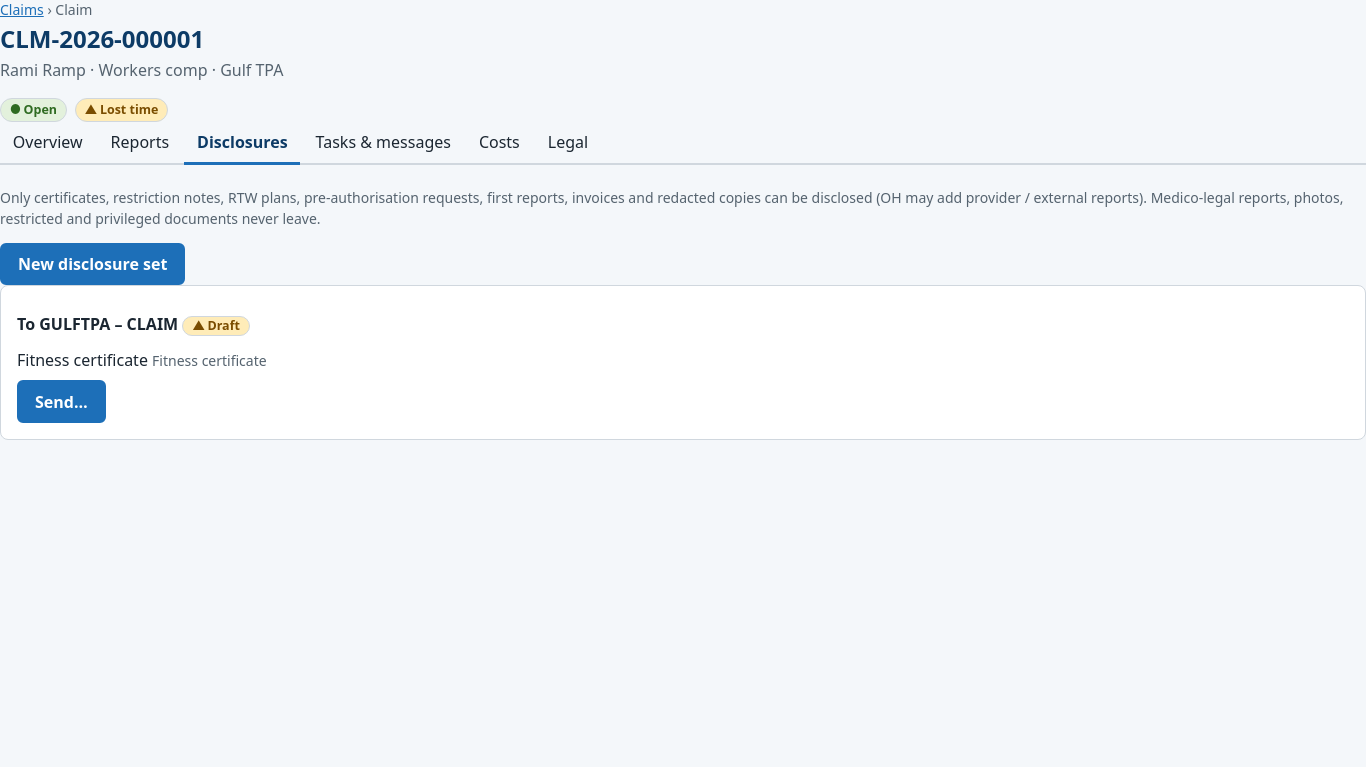
Scenario: ClaimDetailScreen › disclosures: claims coordinator chooser uses the claim documents; no consent → empty state, no free text
This screenshot has width=1366, height=767.
Click the button "New disclosure set": (93, 264) left=0, top=243, right=185, bottom=285
(page scrolled)
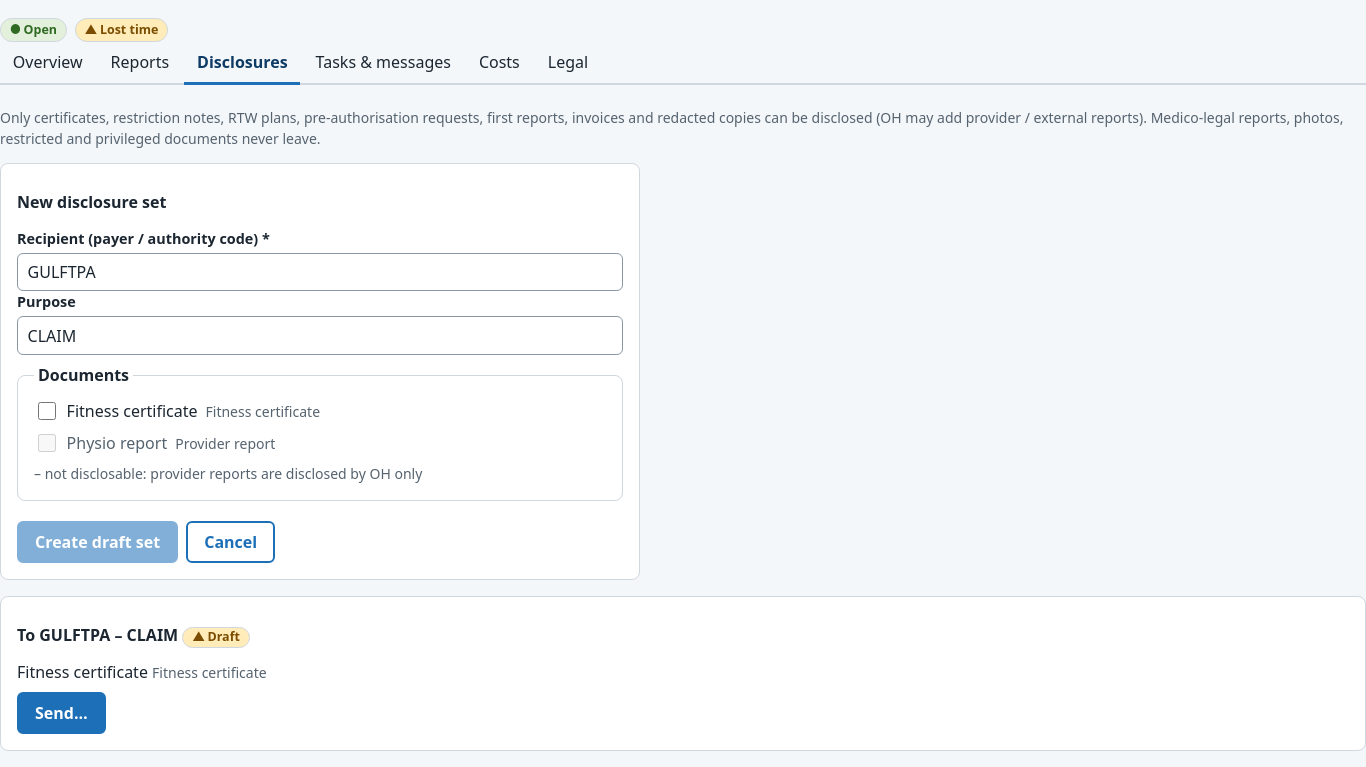
Expected: the checkbox labelled "Physio report" is disabled, left=38, top=434, right=56, bottom=452
Expected: the text "– not disclosable: provider reports are disclosed by OH only" is shown, left=34, top=463, right=422, bottom=484
Expected: the checkbox labelled "Fitness certificate Fitness certificate" is enabled, left=38, top=402, right=56, bottom=420
Click the button with aria-label "Send set to GULFTPA": (61, 713) left=17, top=692, right=106, bottom=734
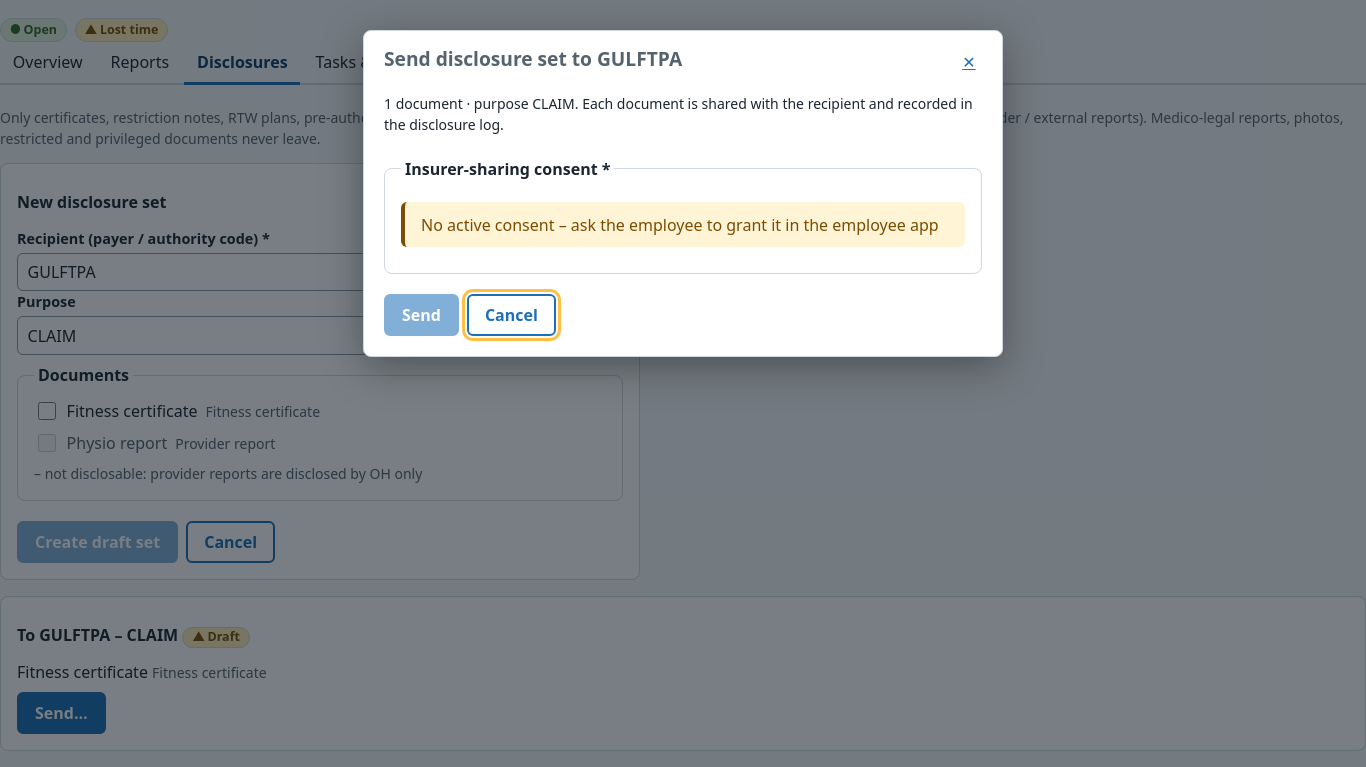
Expected: the text "No active consent – ask the employee to grant it in the employee app" is shown, left=401, top=202, right=965, bottom=247
Expected: the button "Send" is disabled, left=384, top=294, right=459, bottom=336
